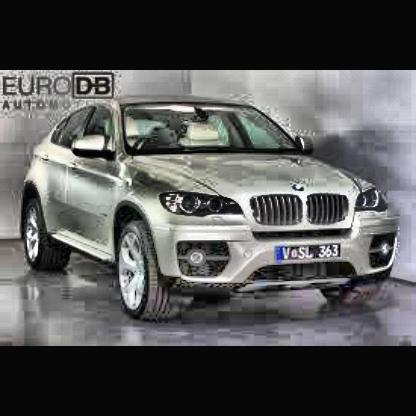BMW X6 SUV 2012: (21, 95, 400, 317)
